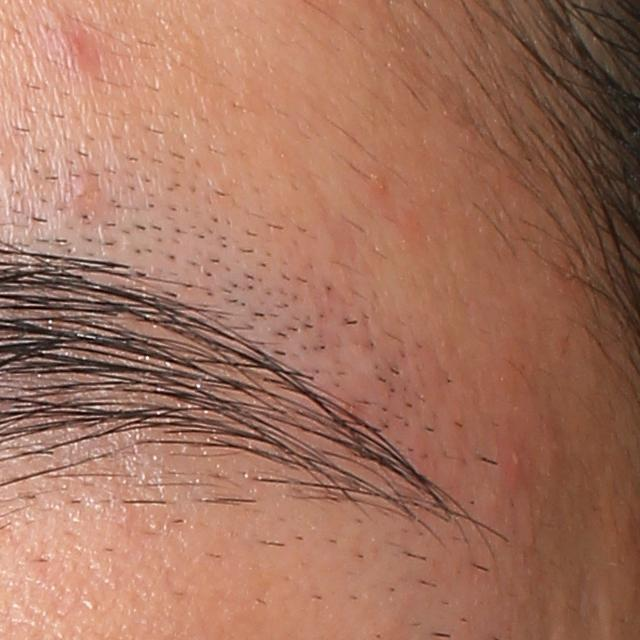papule: (44, 11, 100, 72)
